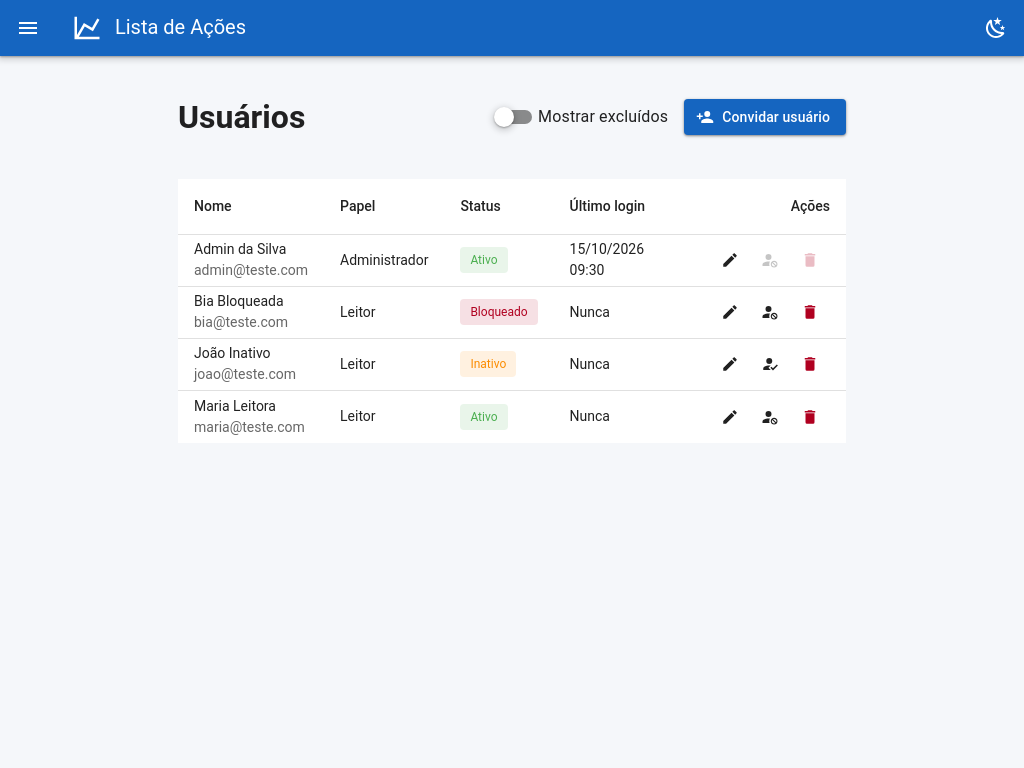
Test: tela de usuários › convidar › e-mail já cadastrado (409) ou falha de envio (503) mostram o erro
Click the button with test id "convidar": (765, 117) [684,99,846,135]
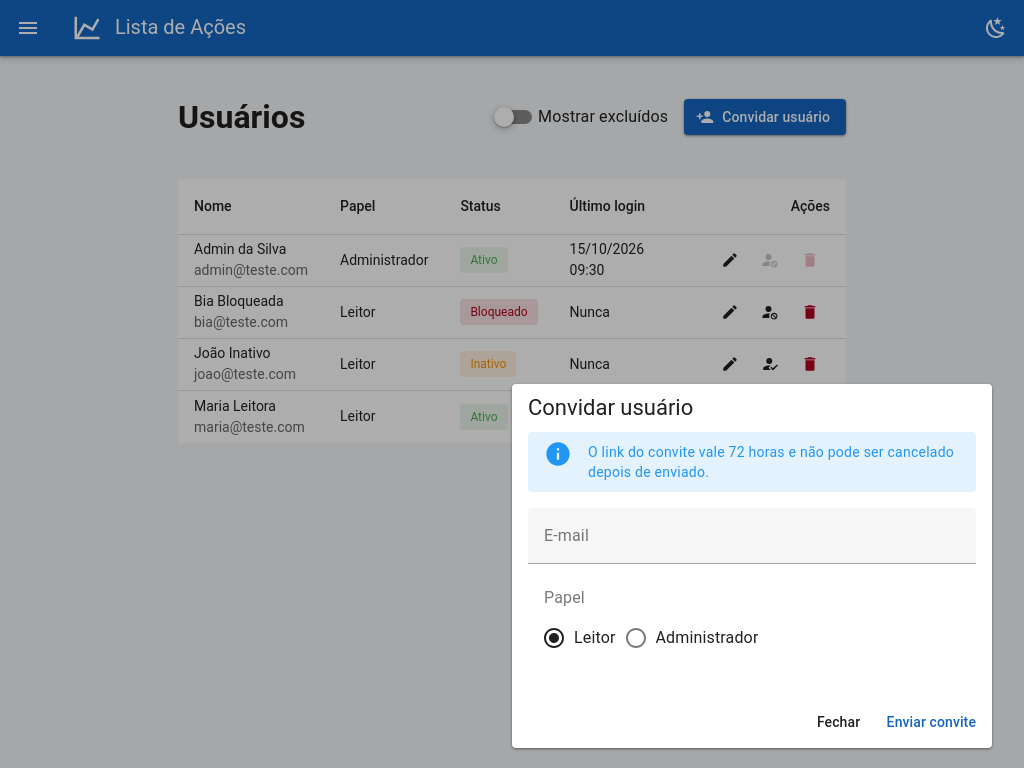
In the field labelled "E-mail": (752, 536) [528,508,976,564], type "maria@teste.com"
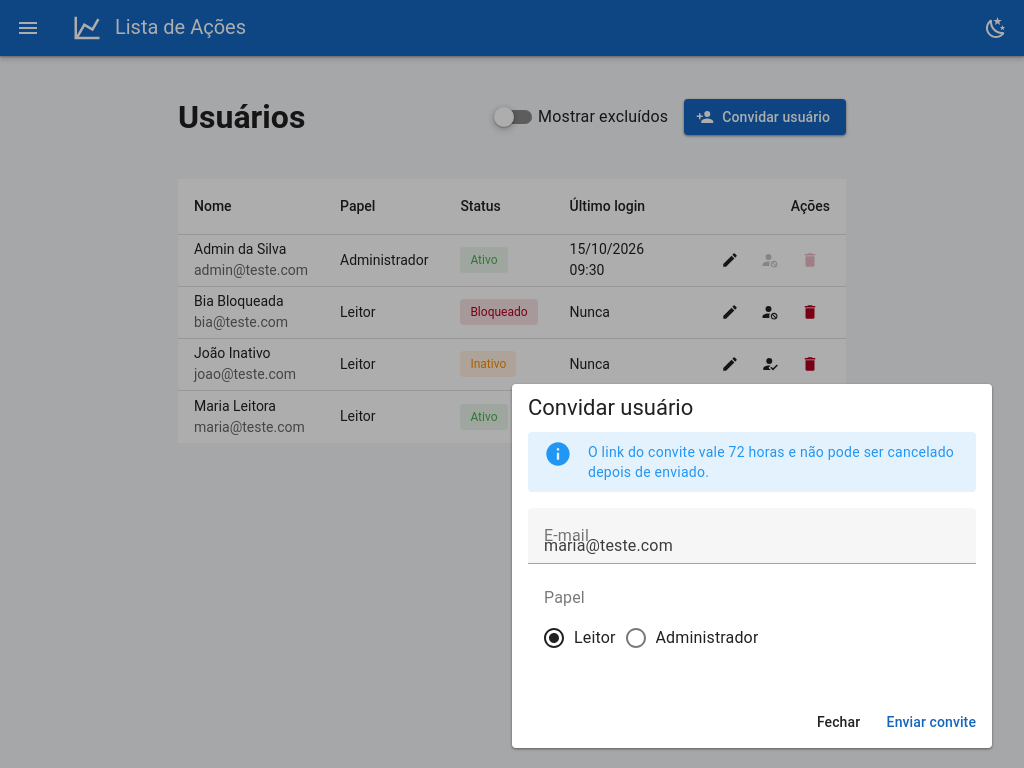
Click the radio button labelled "Administrador": (707, 638) [656,628,758,647]
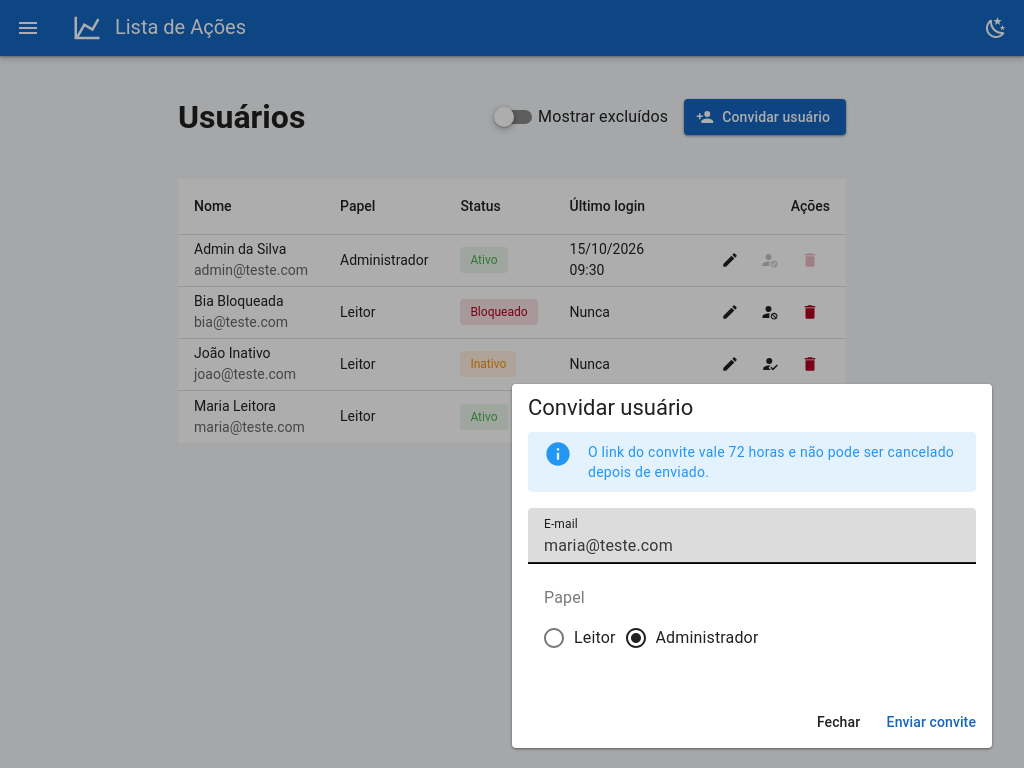
Submit the form with test id "form-convite", box [528,508,976,680]
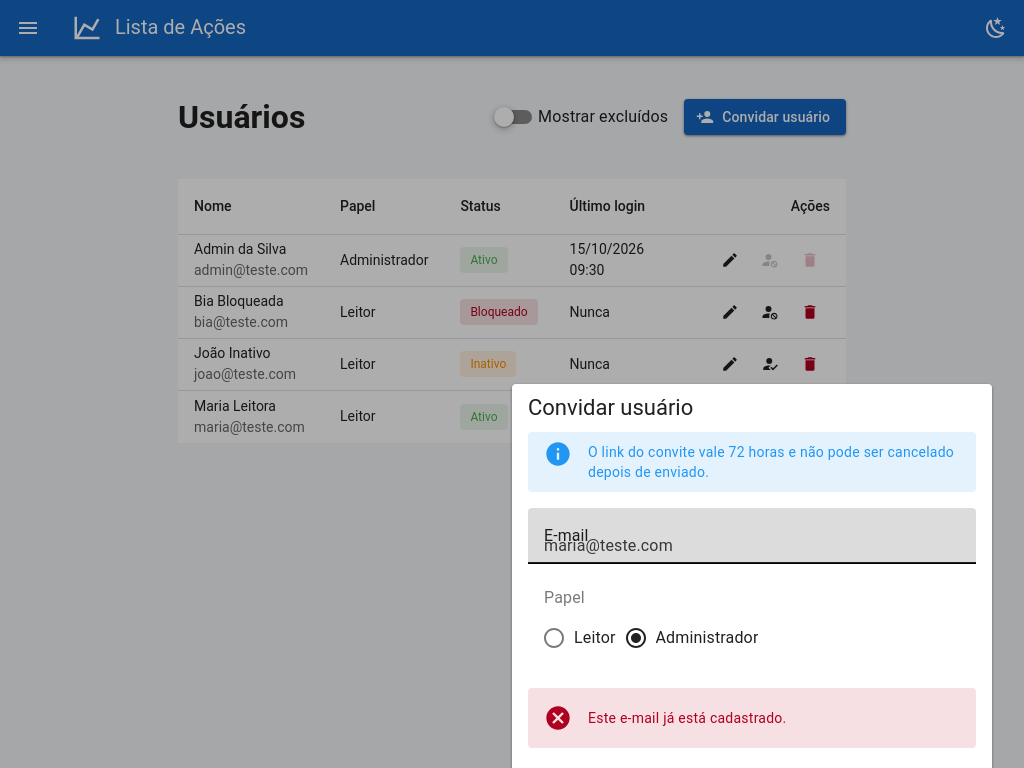
expect the element with test id "erro-convite" shows "já está cadastrado": met, box [588,710,787,726]
Submit the form with test id "form-convite", box [528,508,976,680]
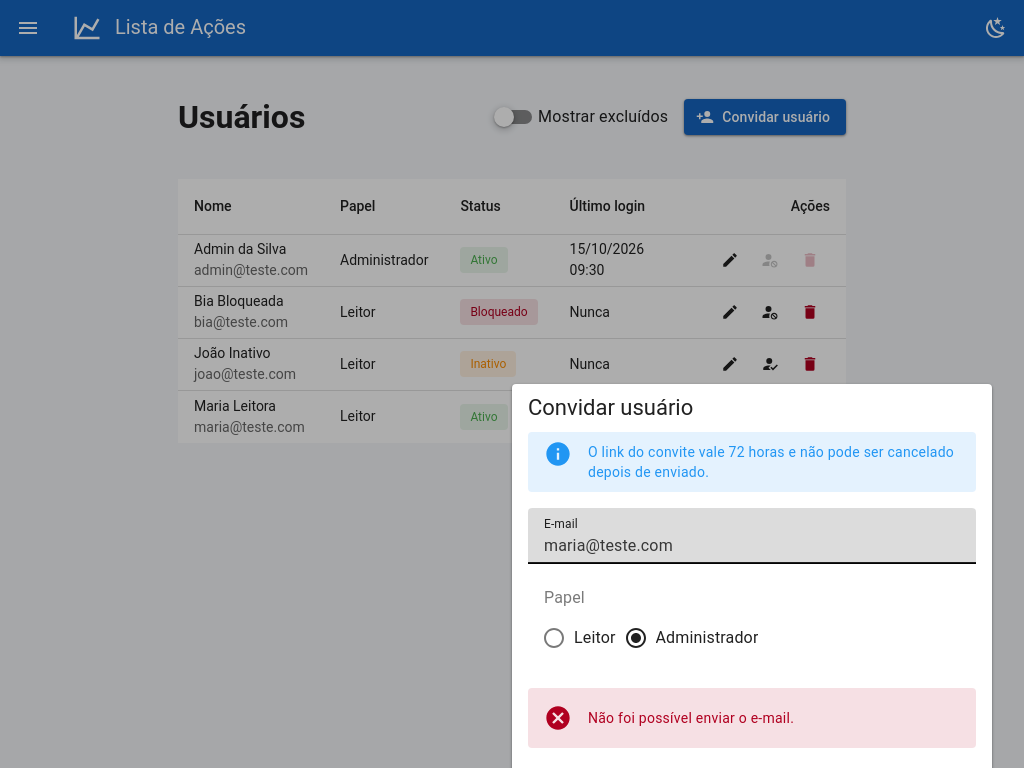
expect the element with test id "erro-convite" shows "Não foi possível enviar": met, box [588,710,794,726]
